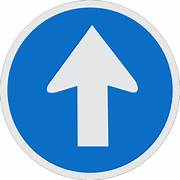forward: (1, 1, 180, 180)
